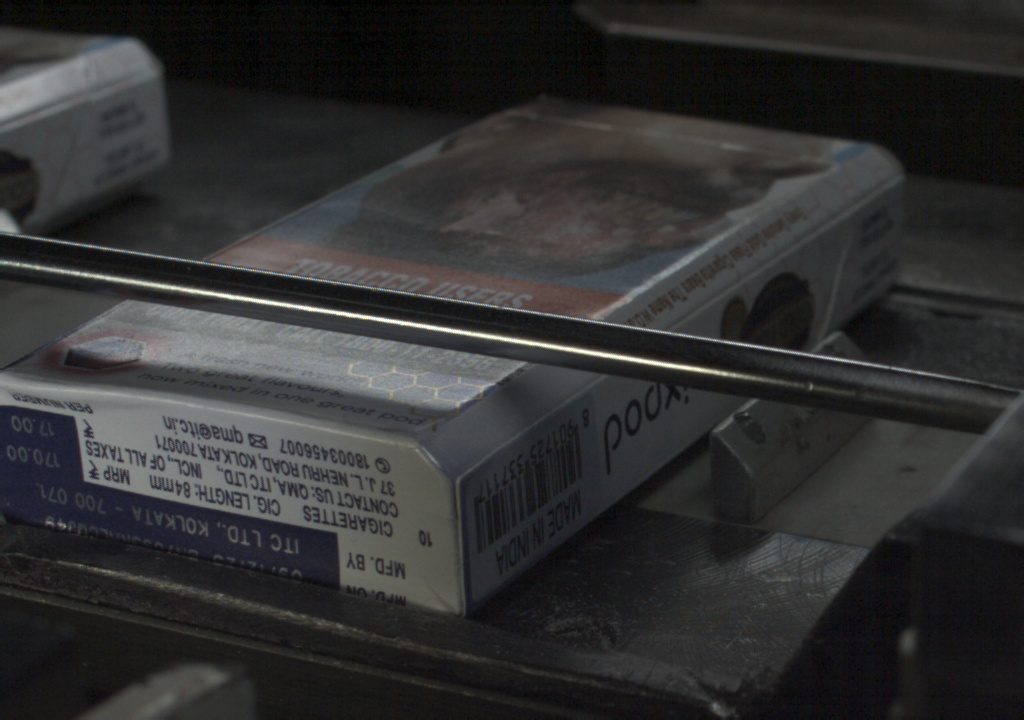g_label: (1, 479, 340, 588)
g_lmiter: (668, 261, 762, 328), (763, 204, 847, 260), (458, 424, 529, 478), (529, 374, 601, 424)
g_miter: (854, 170, 901, 207)
ng_bottom: (1, 385, 183, 440)
price: (1, 409, 79, 477)
